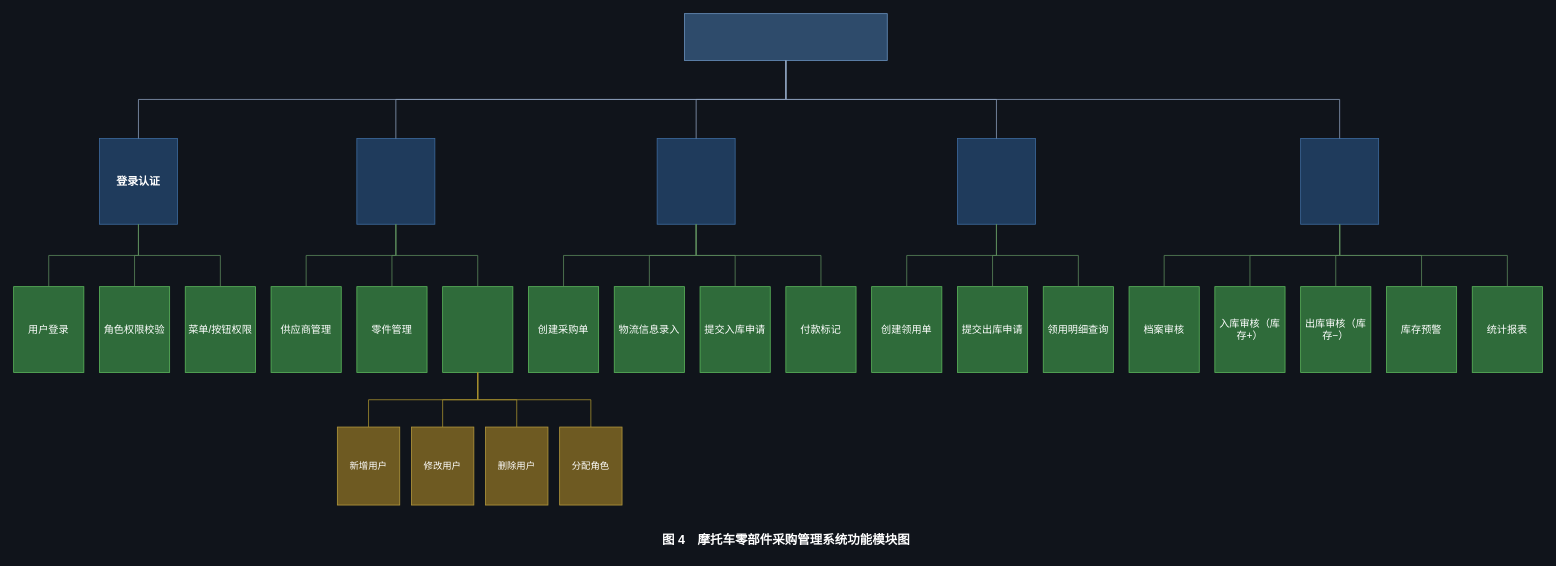
This 1556x566 diagram has some shape labels left out. The shapes that lost their labels are listed below. From the top down, each one's centre as x and y in pixels, then its label:
At point (785, 36): "摩托车零部件采购管理系统".
At point (395, 181): "基础档案管理".
At point (695, 181): "采购入库管理".
At point (996, 181): "领用出库管理".
At point (1339, 181): "审核与统计".
At point (477, 329): "用户管理".
